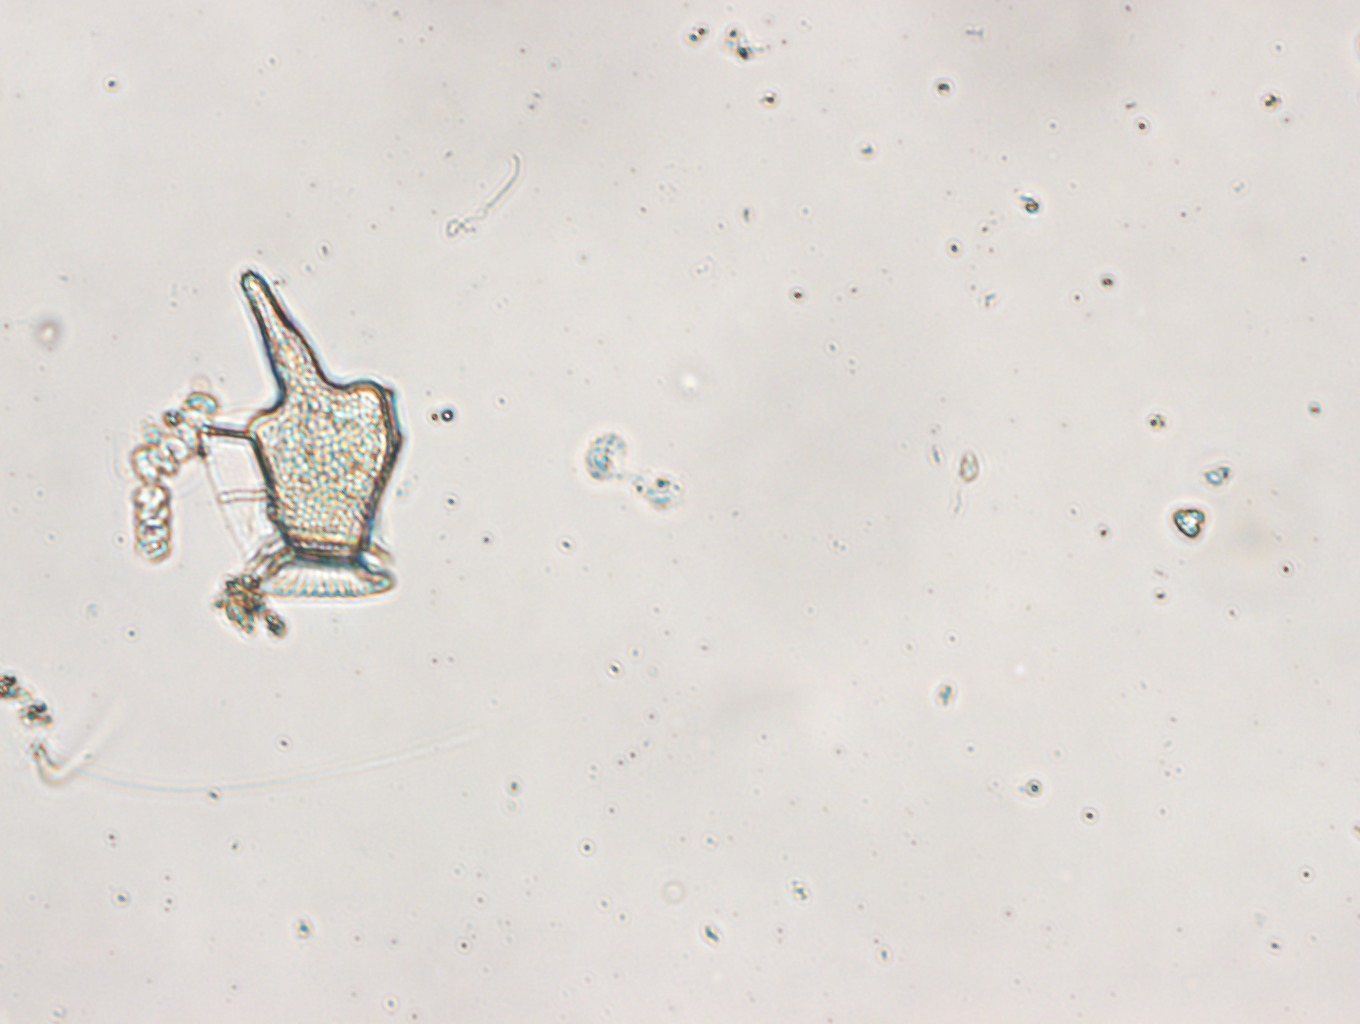dinophysis caudata: (211, 260, 413, 605)
